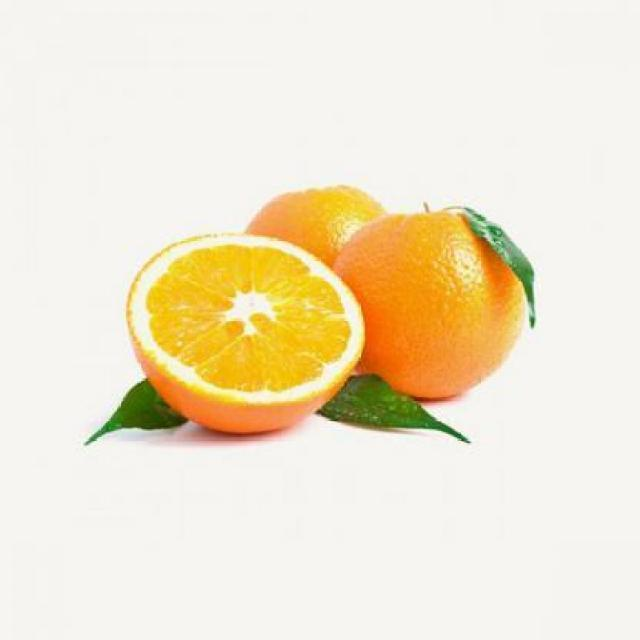Jeruk Sudah Matang: (338, 202, 532, 401), (230, 175, 412, 378)
